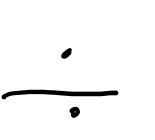div: (2, 47, 119, 120)
